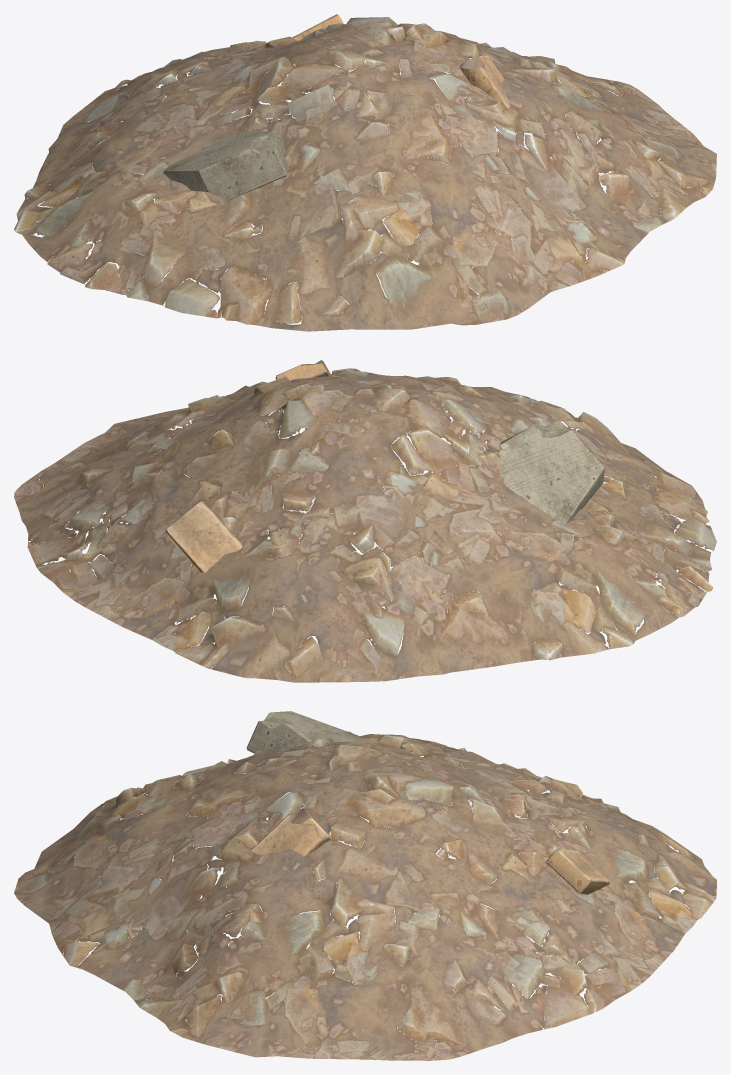
3 views of the same model, one above another, from view 1: azimuth 30°, elevation 25°; view 2: azimuth 150°, elevation 25°; view 3: azimuth 270°, elevation 25° (orthographic). The views are drawn at different scales.
Visible parts, largest first — view 1: SM_Magic_Institute_Rubble_01v3_LOD0; view 2: SM_Magic_Institute_Rubble_01v3_LOD0; view 3: SM_Magic_Institute_Rubble_01v3_LOD0.
Part boxes in pixels (box(x1,y1,x2,y2)): SM_Magic_Institute_Rubble_01v3_LOD0: box(14, 14, 716, 331); SM_Magic_Institute_Rubble_01v3_LOD0: box(14, 360, 716, 682); SM_Magic_Institute_Rubble_01v3_LOD0: box(14, 711, 716, 1060).
Size of the model in its own units: 6.14 by 1.37 by 5.83.
3 materials, 3 textured.
